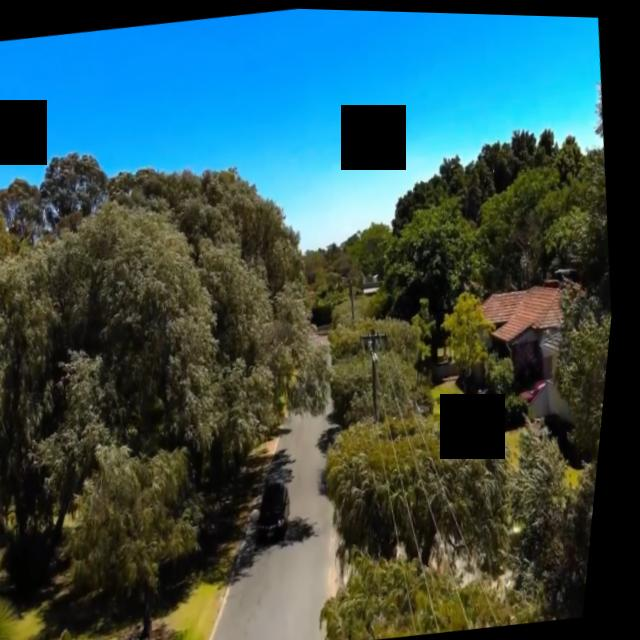Building: (465, 270, 609, 440)
Pole: (366, 326, 398, 423), (348, 277, 368, 321)
Tree: (0, 120, 374, 640), (328, 416, 596, 640), (374, 121, 629, 319), (542, 292, 619, 614), (332, 309, 439, 422)
Vehicle: (255, 474, 313, 550)
